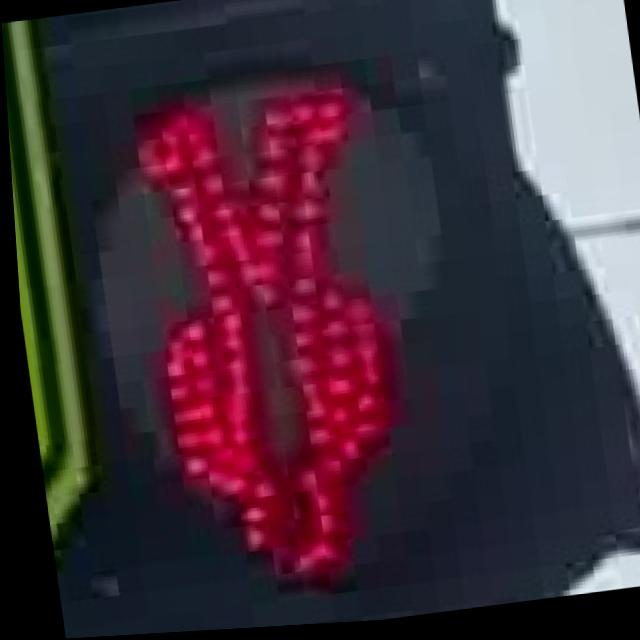red_light: (91, 39, 445, 634)
